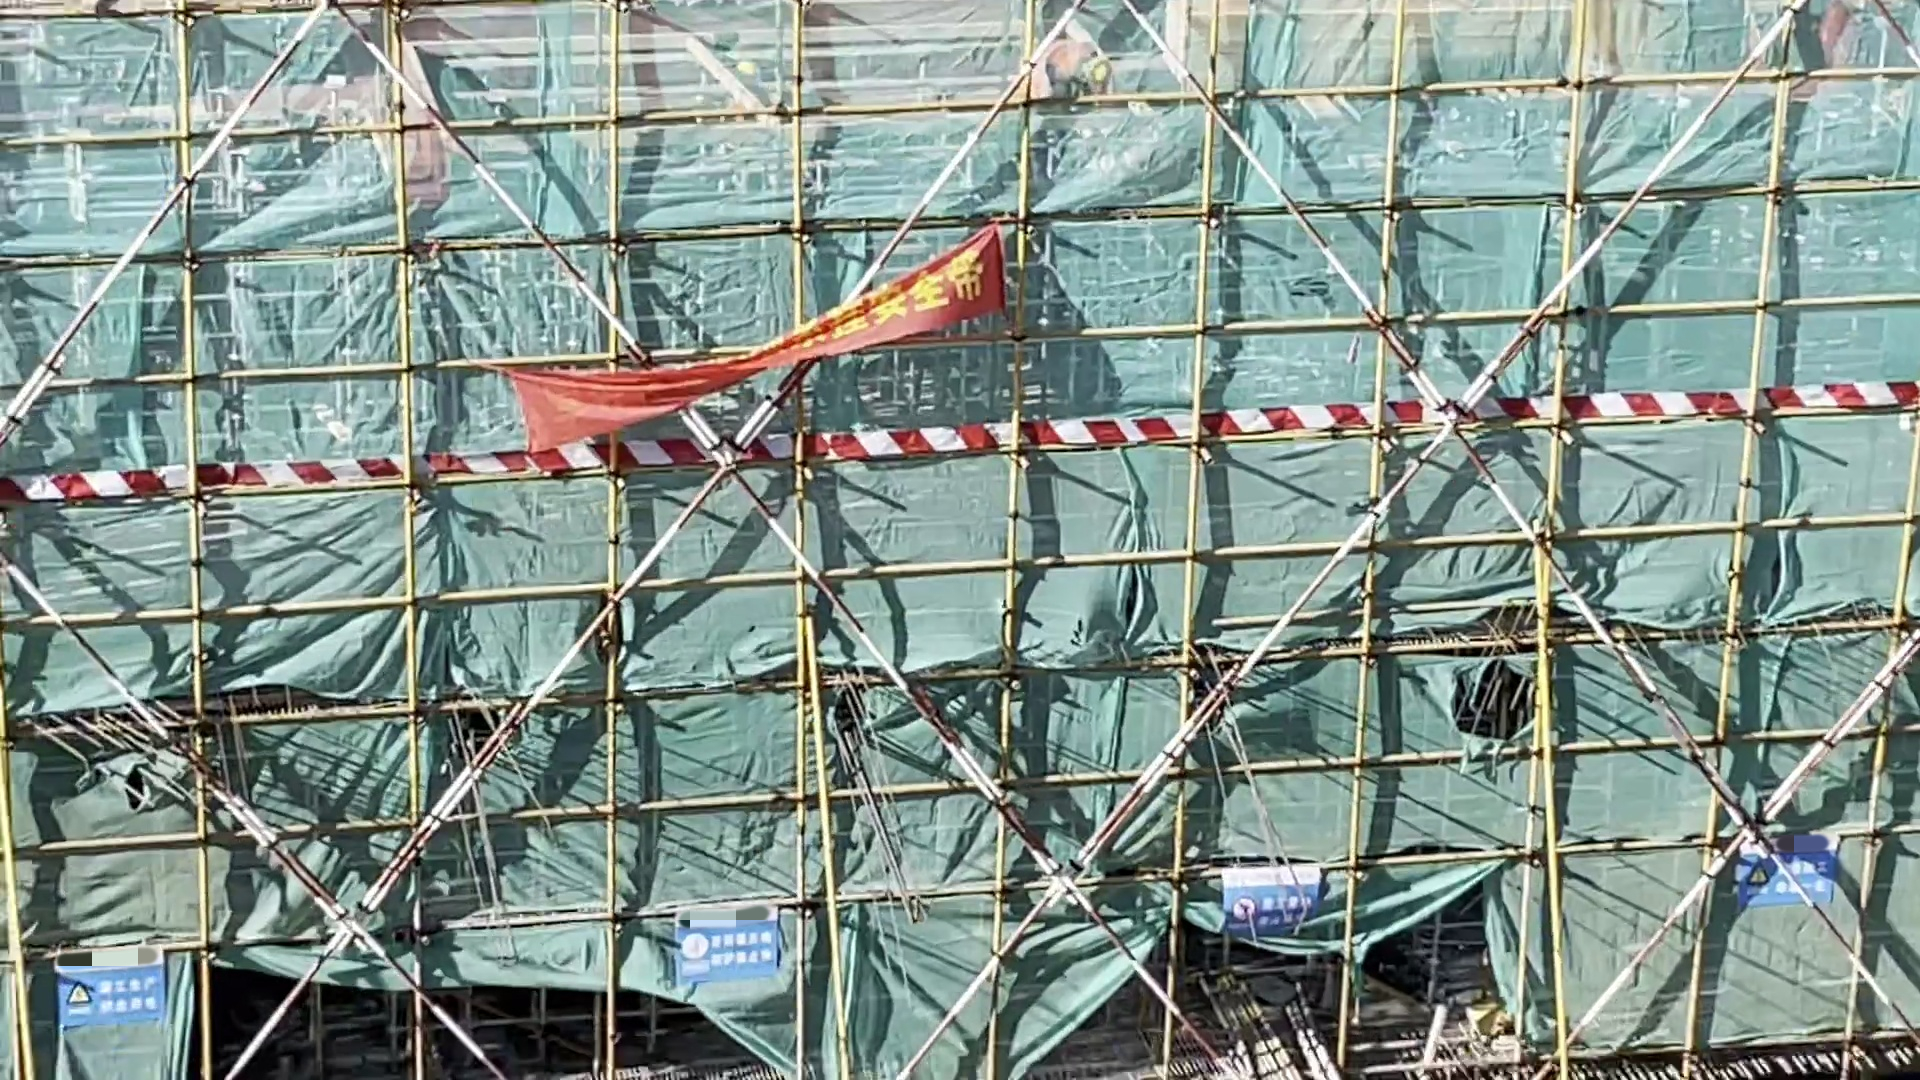slogan: (510, 220, 1011, 489), (30, 931, 171, 1029), (1721, 815, 1854, 909), (670, 891, 782, 982), (1207, 857, 1328, 939)
